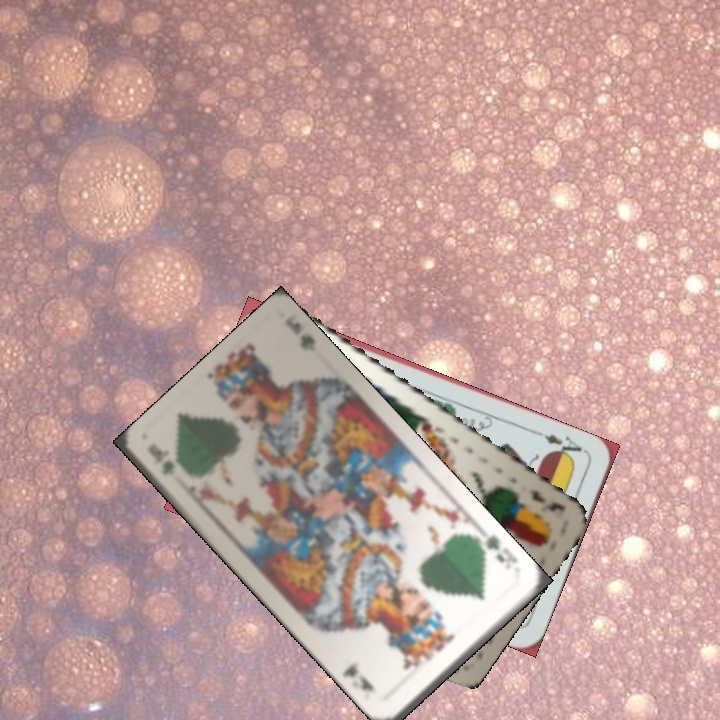EA: (540, 430, 589, 463)
EK: (526, 485, 569, 515)
GK: (474, 531, 521, 567), (143, 439, 178, 479)
